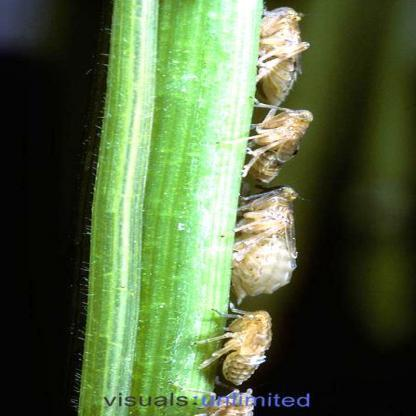brown-planthopper: (230, 188, 310, 294), (215, 304, 282, 384), (244, 108, 316, 180), (256, 6, 302, 104)
